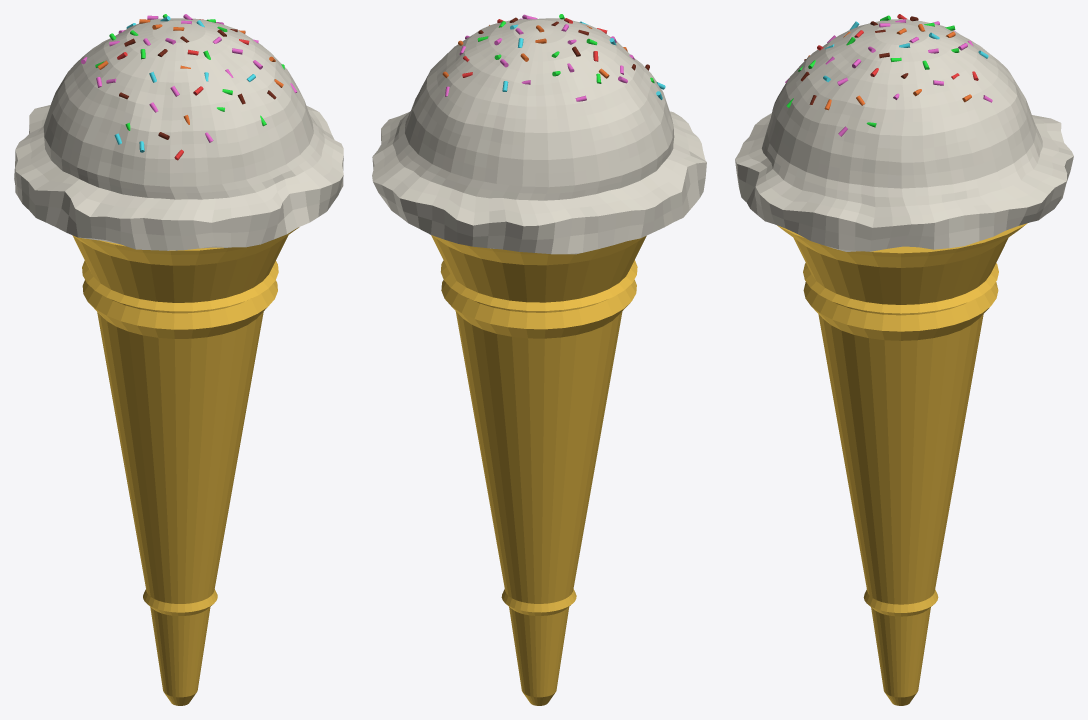
Rendered from ice_chips.glb.
3 renders of one model, left to right at view 1: azimuth 30°, elevation 25°; view 2: azimuth 150°, elevation 25°; view 3: azimuth 270°, elevation 25°, orthographic.
Visible parts, largest first — view 1: ice, corn; view 2: ice, corn; view 3: ice, corn.
Boxes of the visible parts, x1,y1,x2,y2 form: ice: (14, 18, 343, 250); corn: (72, 227, 299, 705); ice: (372, 18, 706, 254); corn: (431, 235, 646, 705); ice: (735, 19, 1073, 251); corn: (777, 223, 1027, 705).
Size of the model in its own units: 1.7 by 3.78 by 1.73.
